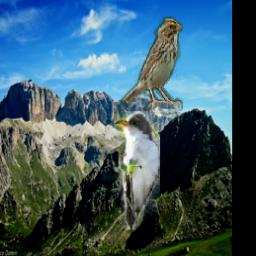Cuckoo: (115, 111, 160, 230)
Sparrow: (122, 16, 183, 111)
